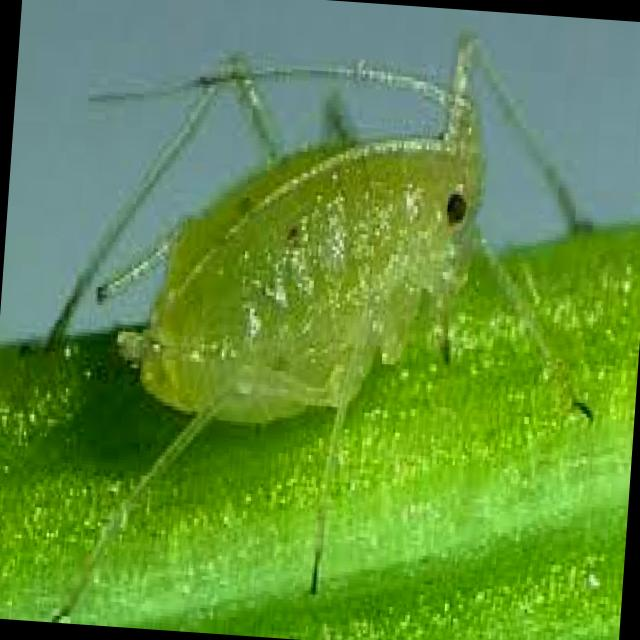Aphids: (42, 1, 590, 524)
